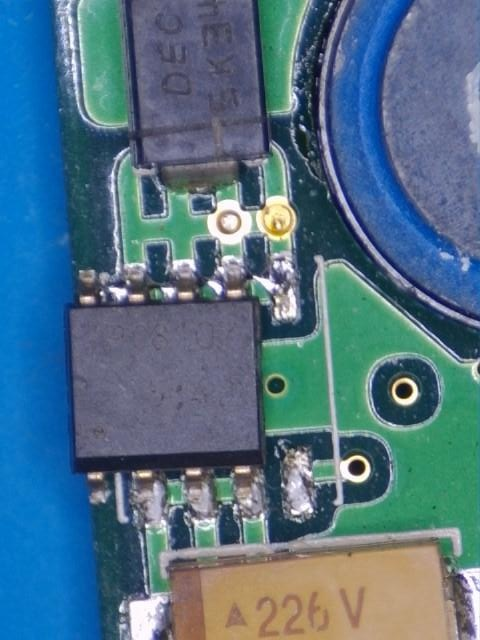pcb_defect: (68, 255, 267, 528), (98, 254, 301, 323)
